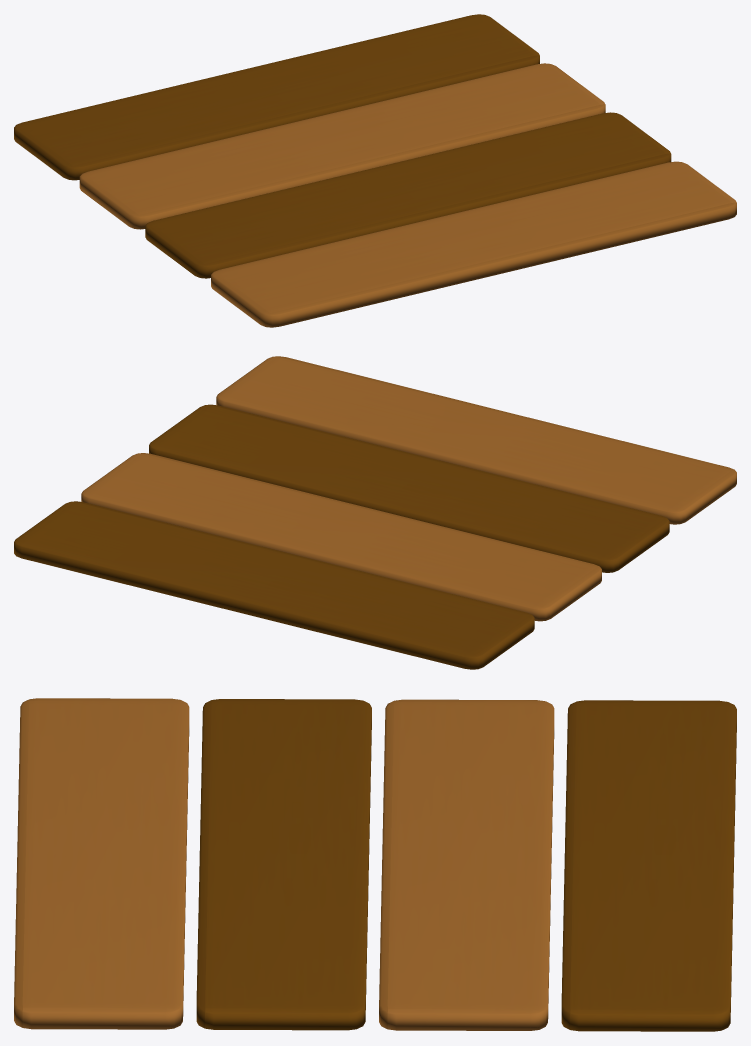
The model's file is Tabua.fbx.
The picture shows the model from 3 angles, top to bottom: view 1: azimuth 30°, elevation 25°; view 2: azimuth 150°, elevation 25°; view 3: azimuth 270°, elevation 25°; orthographic projection. The views are drawn at different scales.
Visible parts, largest first — view 1: Cube; view 2: Cube; view 3: Cube.
Boxes of the visible parts, x1,y1,x2,y2 form: Cube: [14, 14, 736, 327]; Cube: [14, 356, 736, 669]; Cube: [14, 698, 736, 1031].
Size of the model in its own units: 146 by 4.23 by 140.
Materials: 1 (1 with a texture image).
